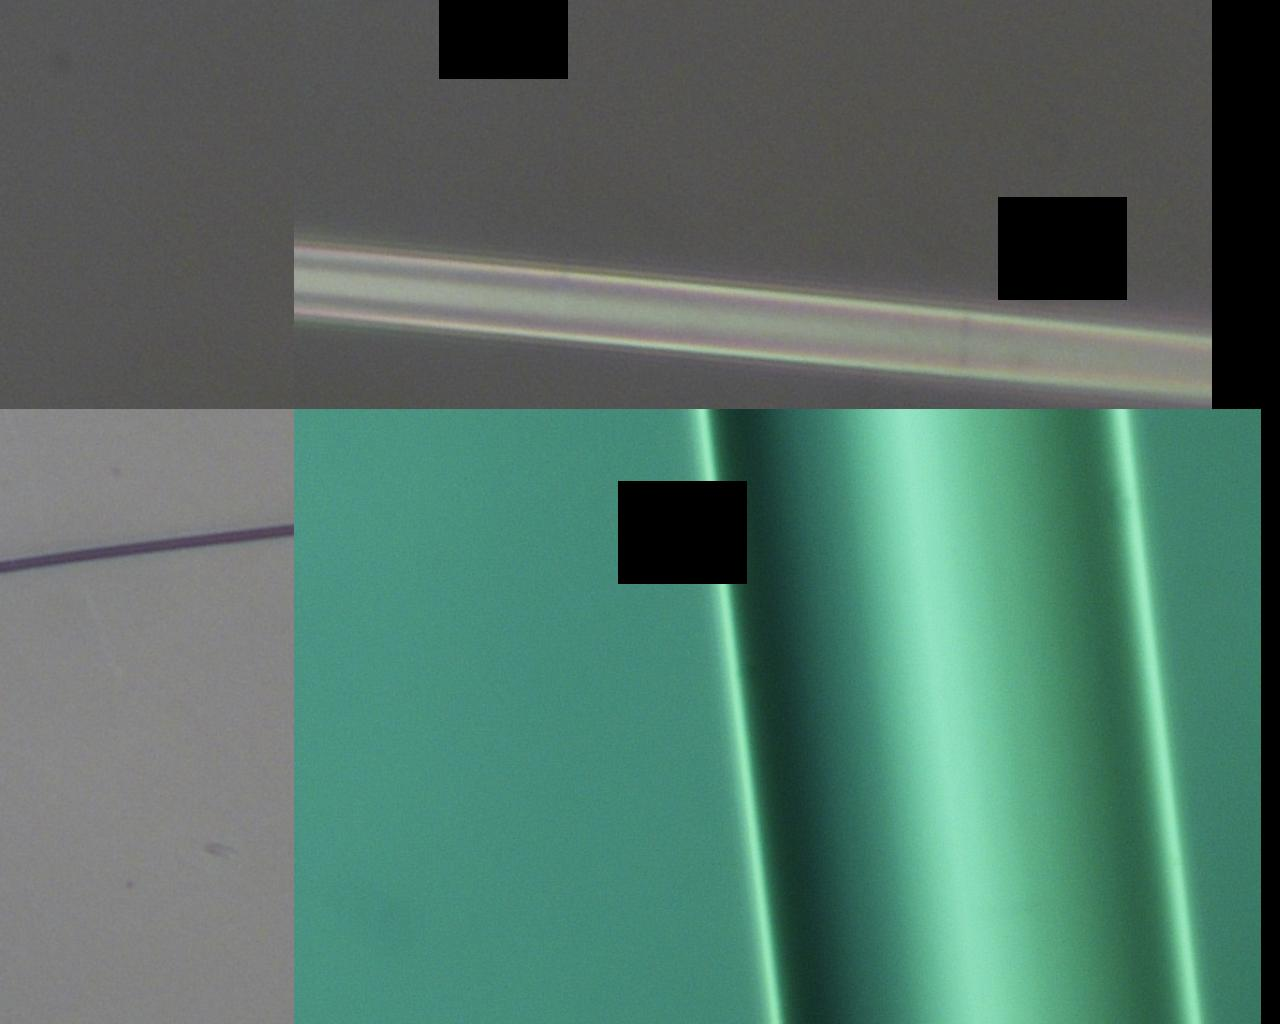fiber: (694, 198, 1280, 604), (786, 604, 904, 1024)
